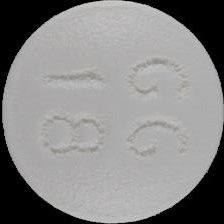53808-0664: (0, 0, 224, 224)
